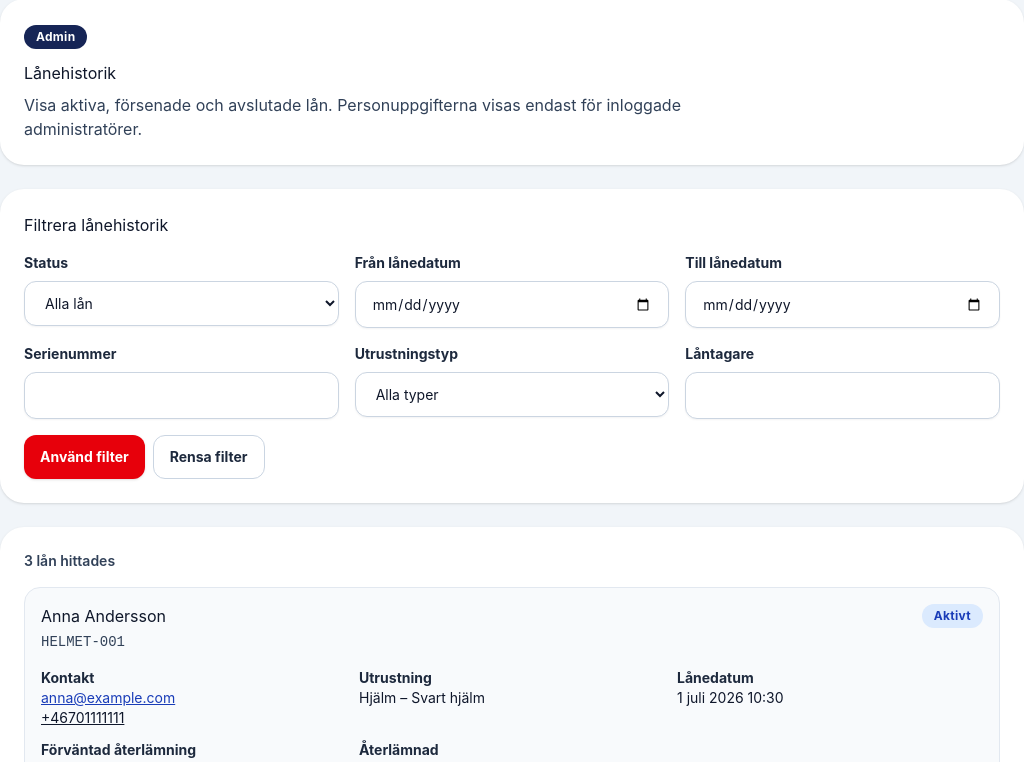
Test: ActiveLoansPage › removes returned loan from active result
Expected: the heading "Anna Andersson" is shown, [41,604,166,628]
Select "Aktiva" in the dropdown labelled "Status". click: (181, 304)
box: [24,281,339,326]
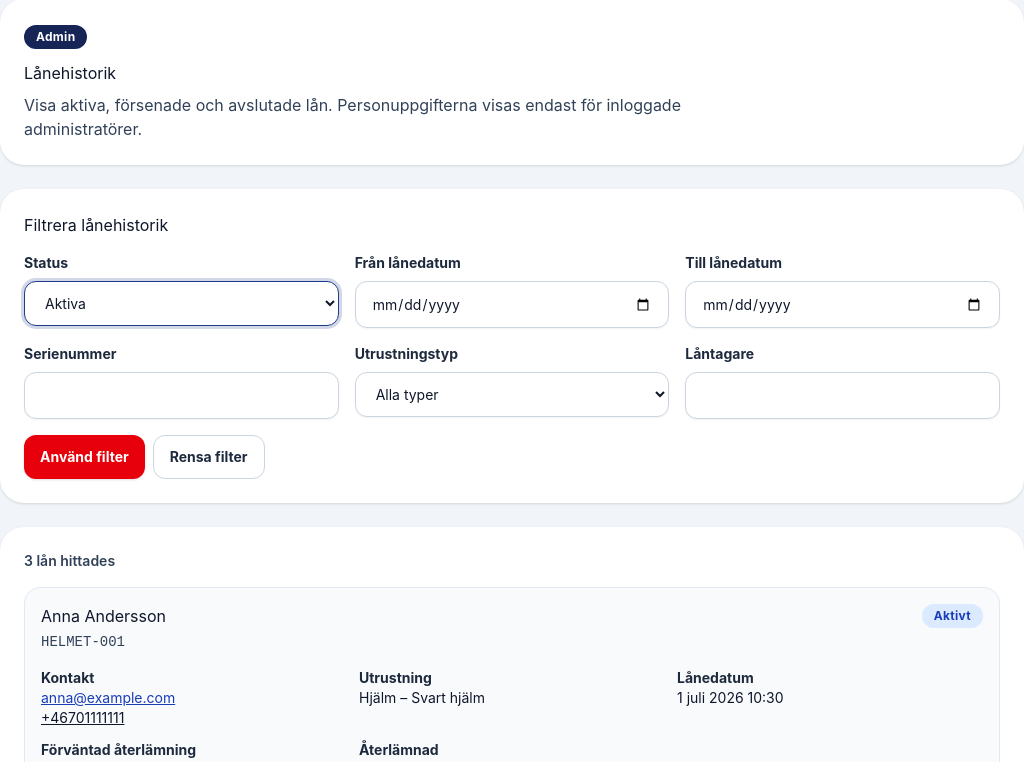
Click the button "Använd filter". click: (84, 457)
box: [24,435,145,479]
(page scrolled)
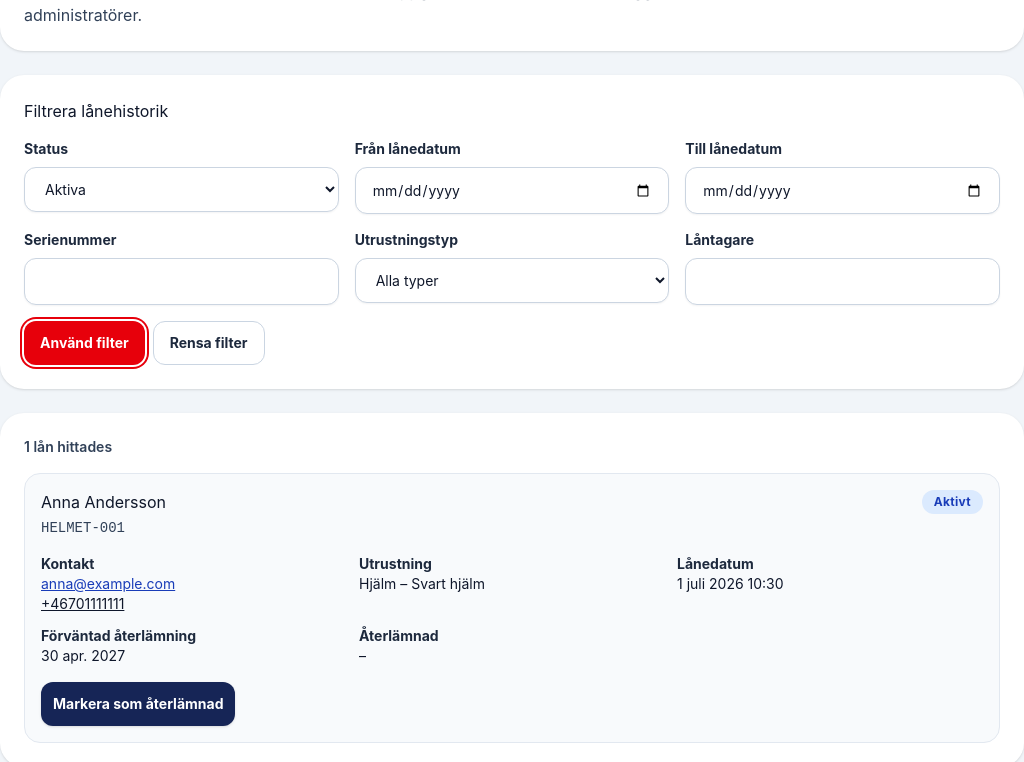
Click the button "Markera som återlämnad". click: (138, 704)
box: [41,682,236,726]
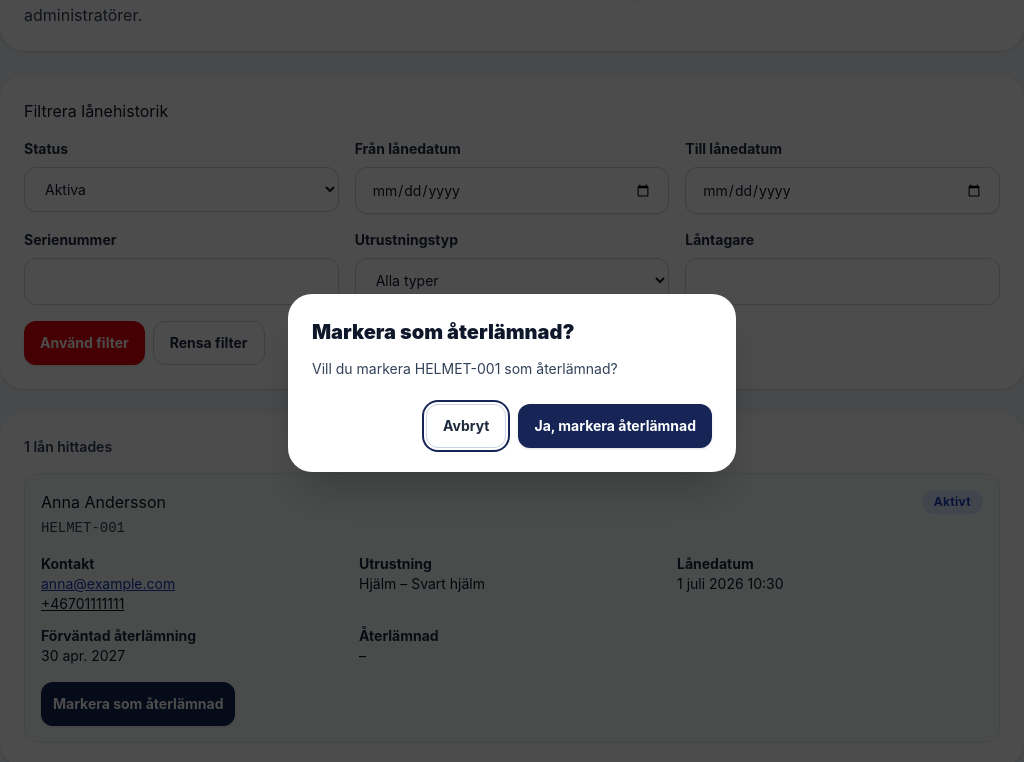
Click the button "Ja, markera återlämnad". click: (615, 426)
box: [518,404,712,448]
(page scrolled)
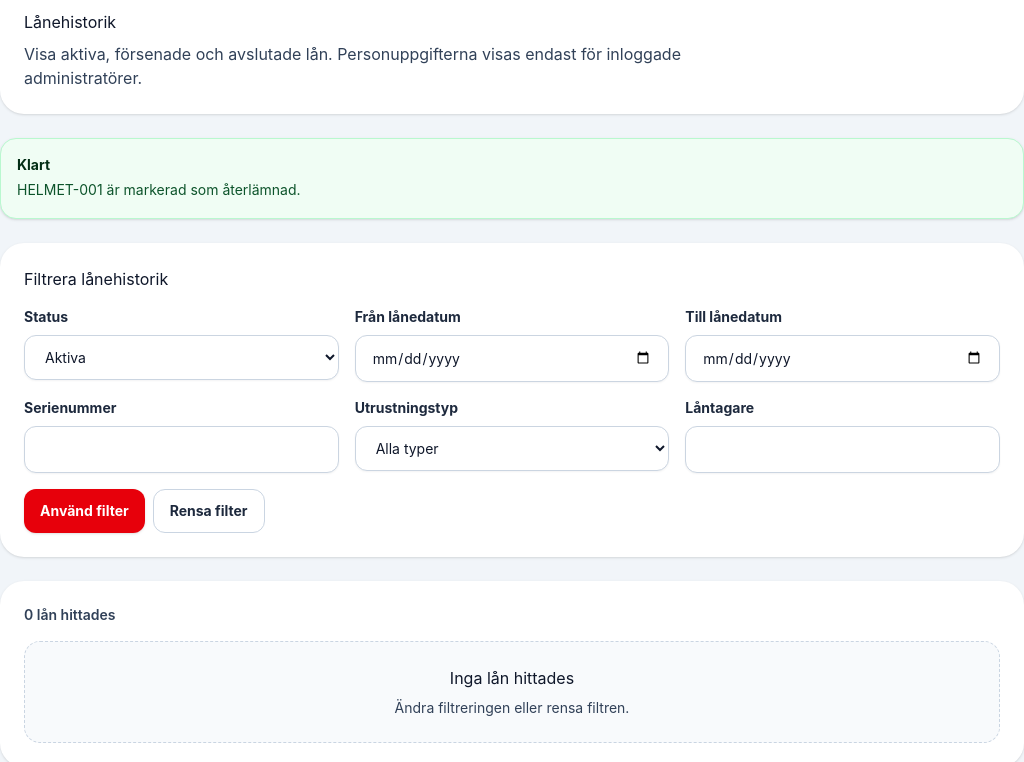
Now the heading "Inga lån hittades" is shown, box [450,668,574,688]
Now the text "Ändra filtreringen eller rensa filtren." is shown, box [395,699,629,716]
